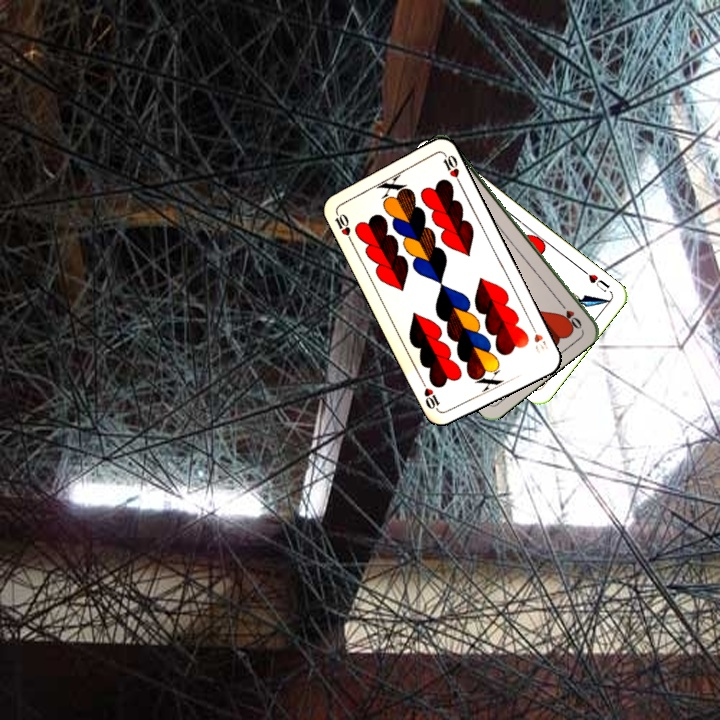H10: (526, 319, 551, 357), (331, 206, 355, 245)
HO: (555, 297, 585, 332)
HU: (579, 266, 612, 295)
